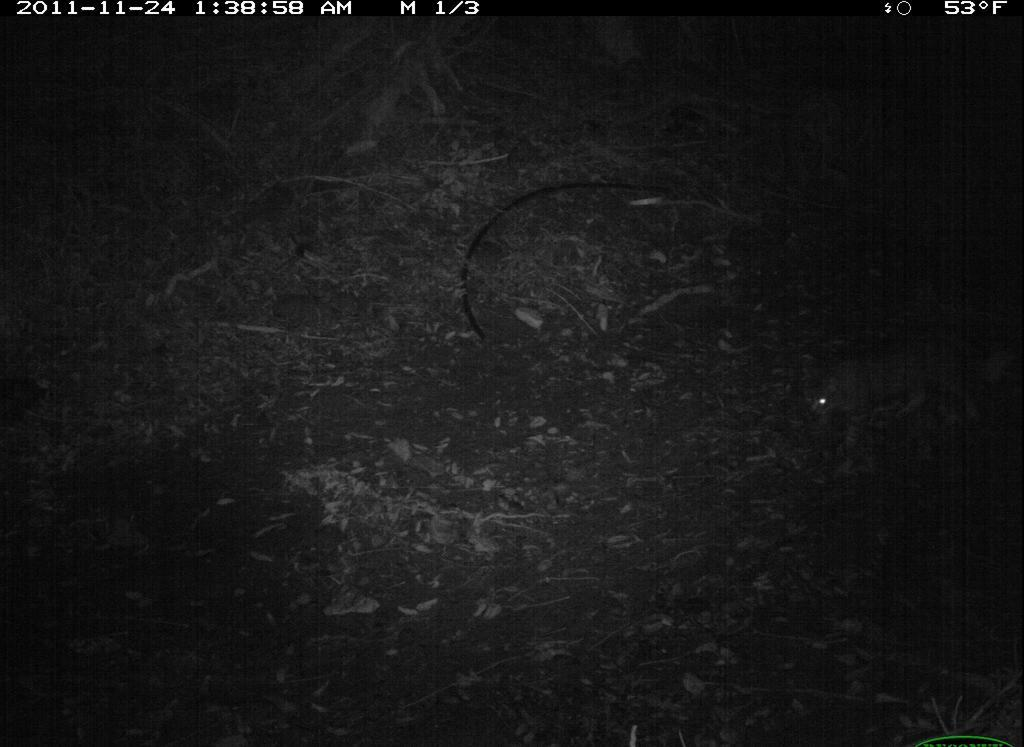cat: (792, 328, 1013, 463)
